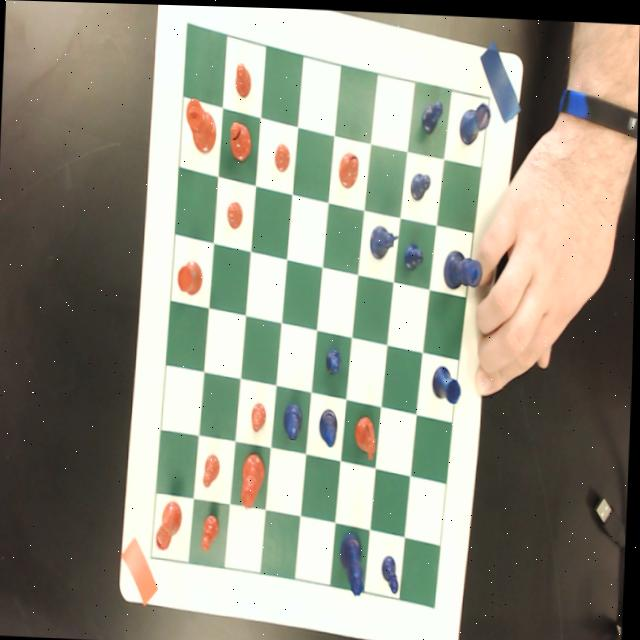B: (284, 398, 305, 439), (320, 406, 341, 446)
K: (443, 246, 484, 288)
N: (369, 222, 401, 259)
P: (421, 93, 444, 134), (383, 553, 403, 593), (409, 169, 433, 200), (404, 239, 426, 269), (326, 345, 343, 375)
Q: (340, 531, 368, 595)
R: (459, 98, 491, 145), (433, 363, 464, 404)
b: (229, 119, 253, 159), (338, 145, 360, 188)
k: (185, 95, 217, 154)
n: (355, 413, 379, 458)
p: (202, 511, 222, 551), (234, 60, 253, 96), (204, 452, 223, 487), (274, 141, 292, 171), (252, 400, 269, 430), (228, 200, 244, 228)
q: (242, 450, 268, 507)
r: (157, 499, 184, 550), (177, 257, 205, 295)
